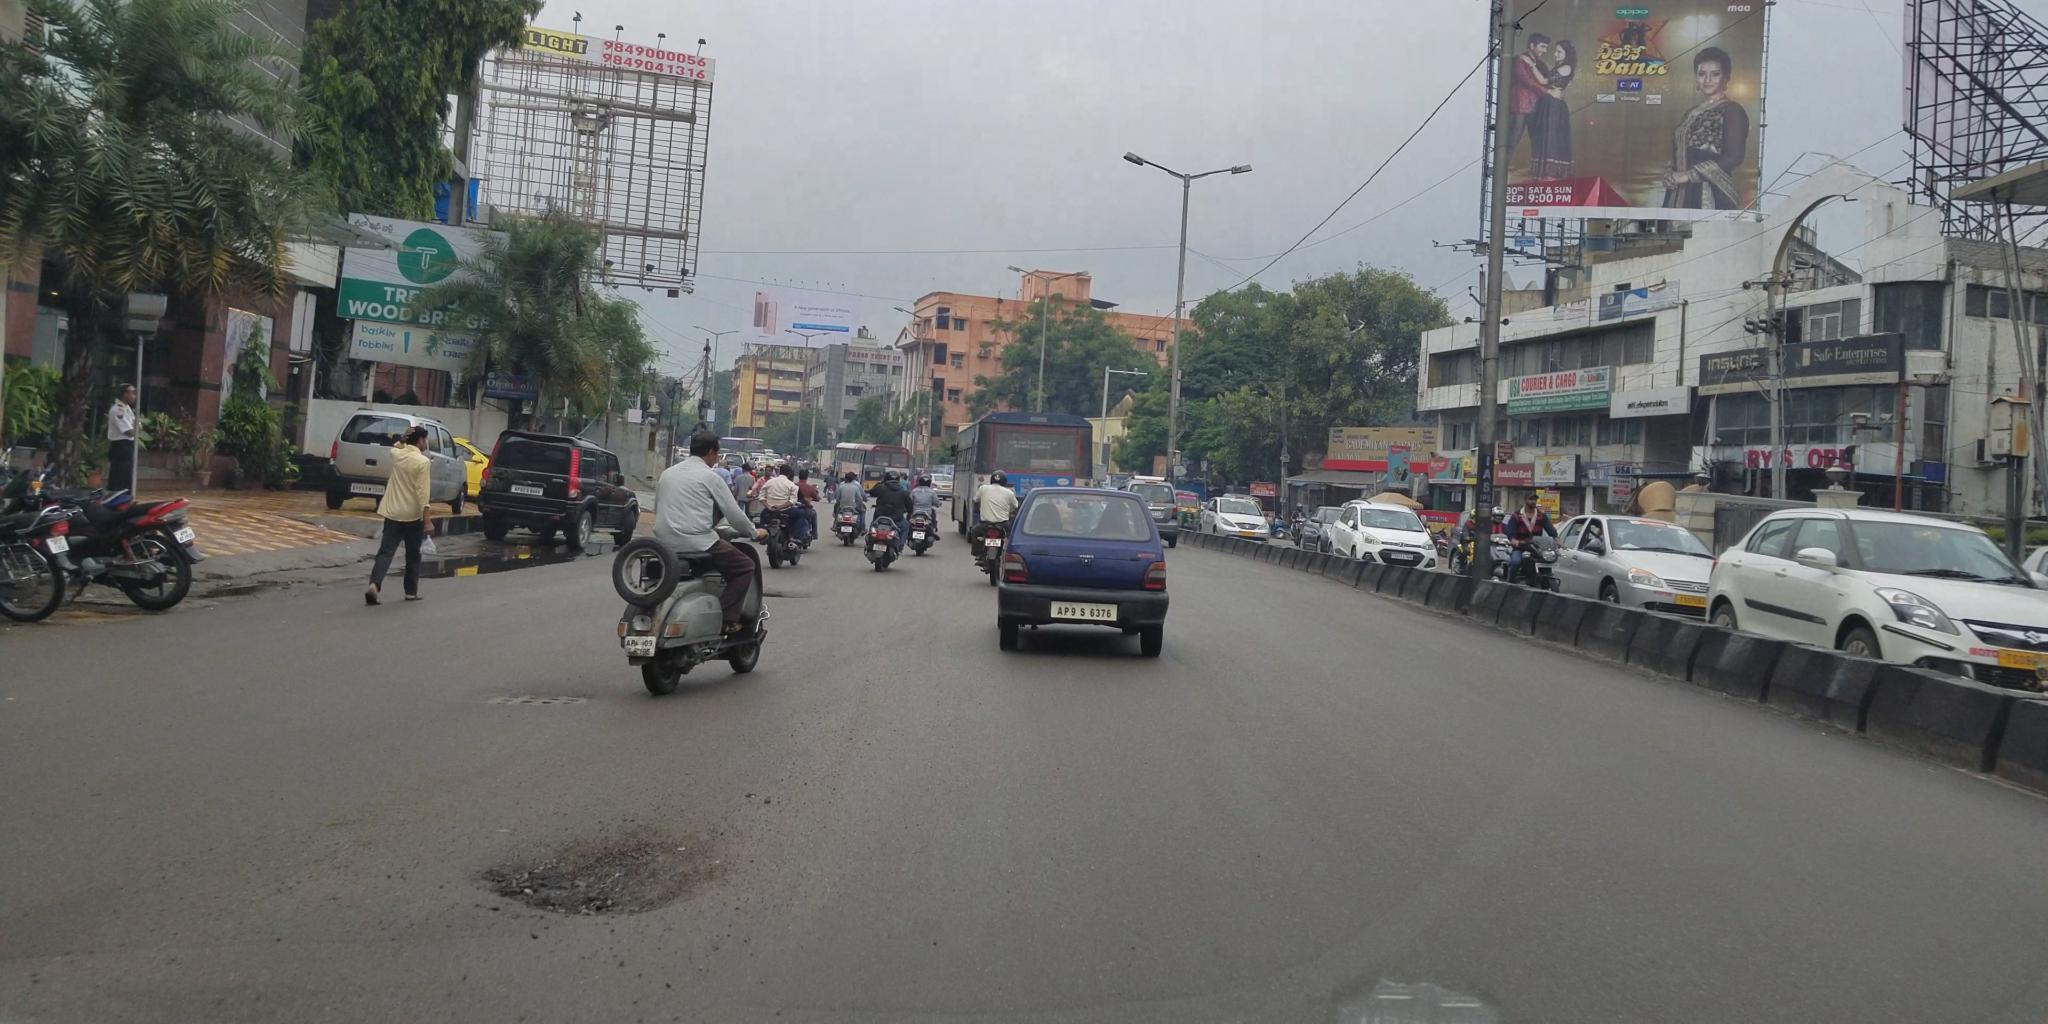off: (20, 12, 2048, 1024)
